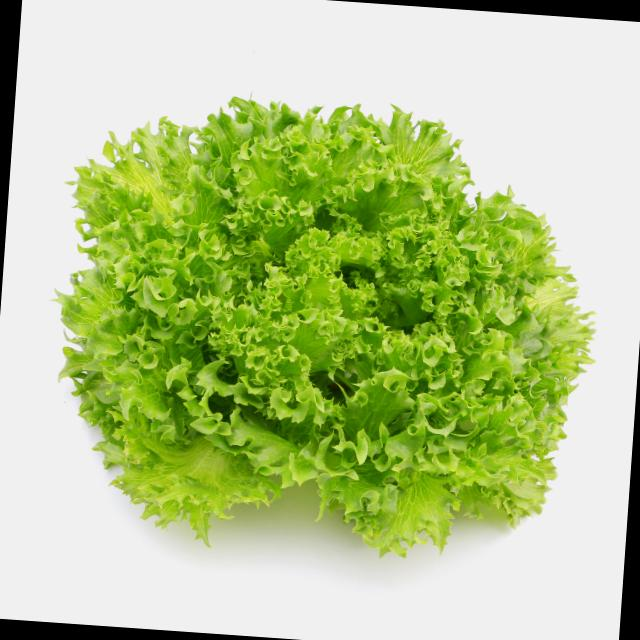lista_para_cosechar: (60, 98, 592, 556)
